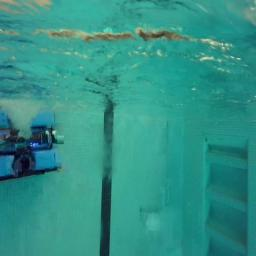front: (0, 105, 62, 181)
